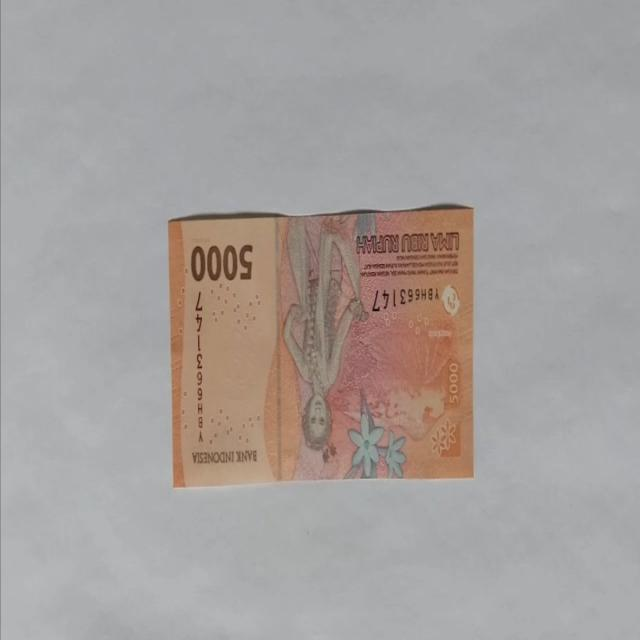lima ribu rupiah: (167, 203, 475, 488)
